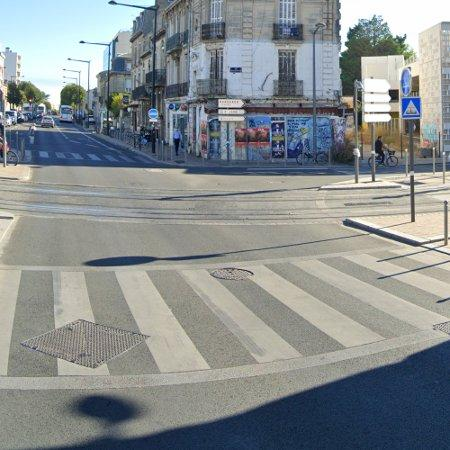crosswalks: (0, 245, 450, 393)
